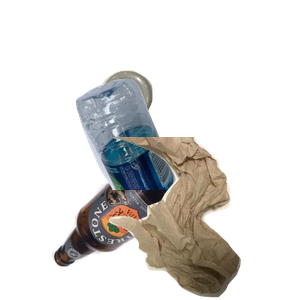glass: (49, 145, 229, 300)
metal: (99, 68, 244, 184)
plastic: (73, 76, 300, 256)
trash: (103, 137, 300, 300)
